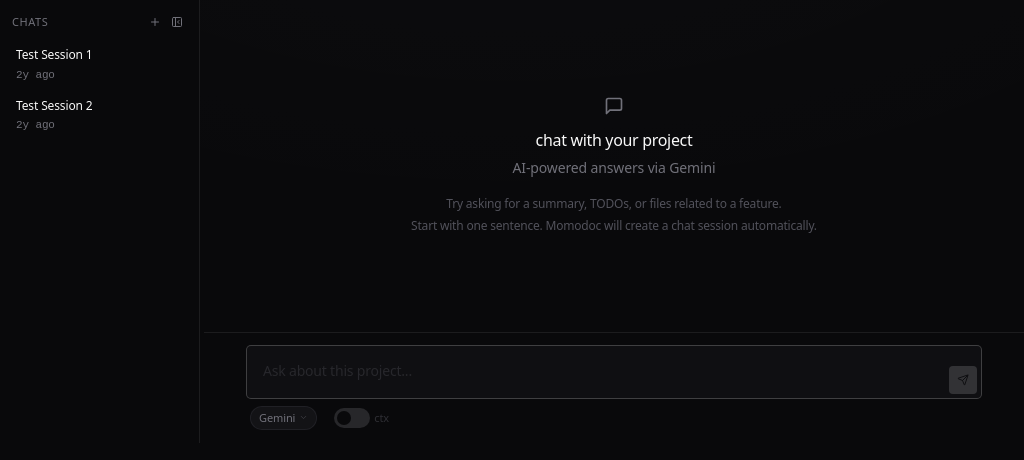
Test: UnifiedSearchChat › Mode Switching › should switch between chat and search mode
Open mode dropdown
Click the button with aria-label "Select AI model".
click(284, 418)  # box [250,406,317,430]
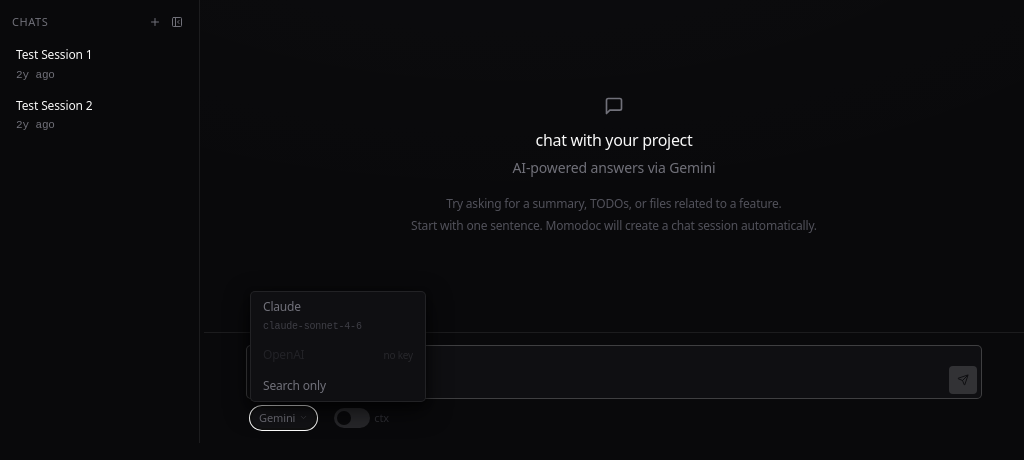
Select search mode
Click the button "Search only".
click(338, 386)  # box [251,371,425,402]
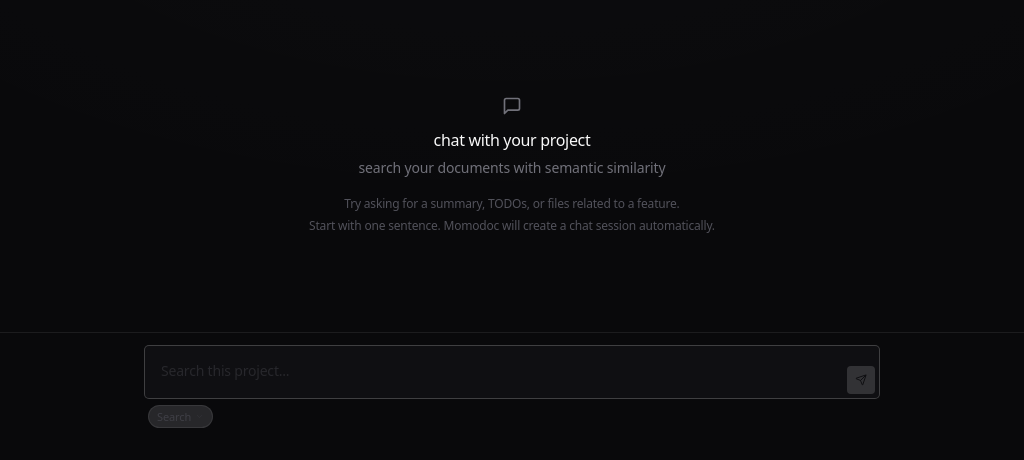
Expected: the text box with placeholder "Search this project..." is shown, [149,350,839,394]
